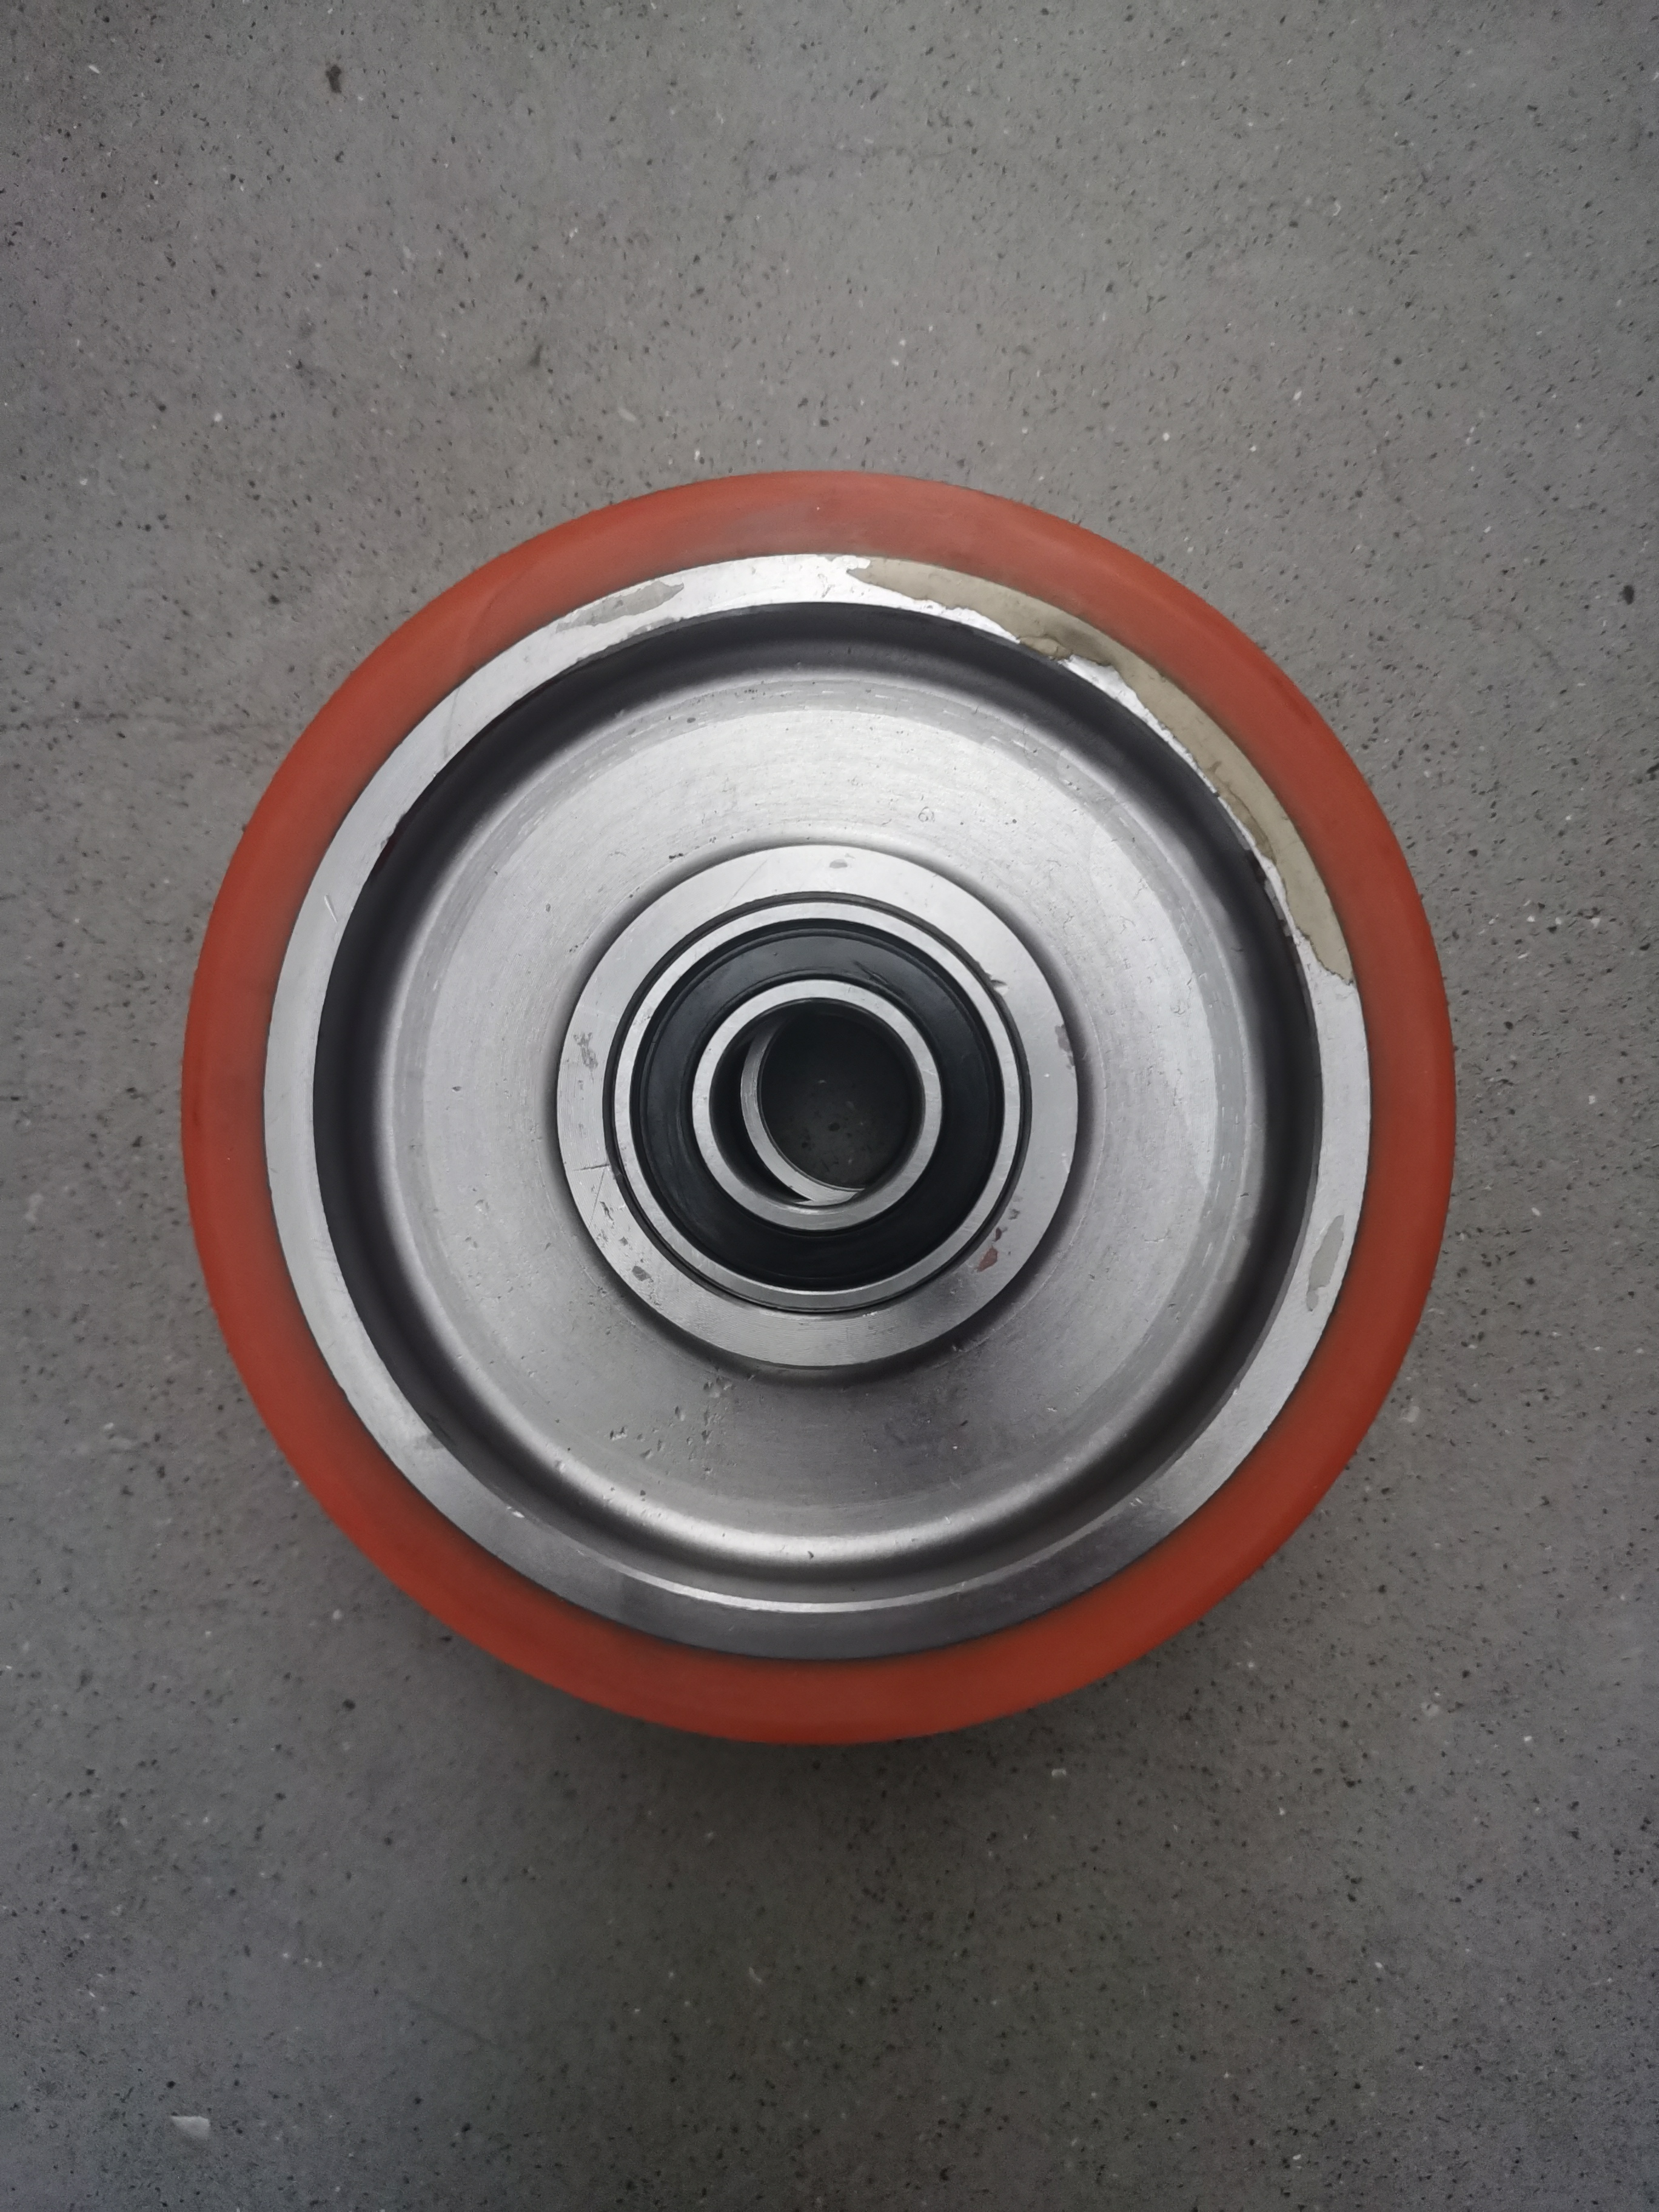good_wheel: (113, 456, 1509, 1851)
